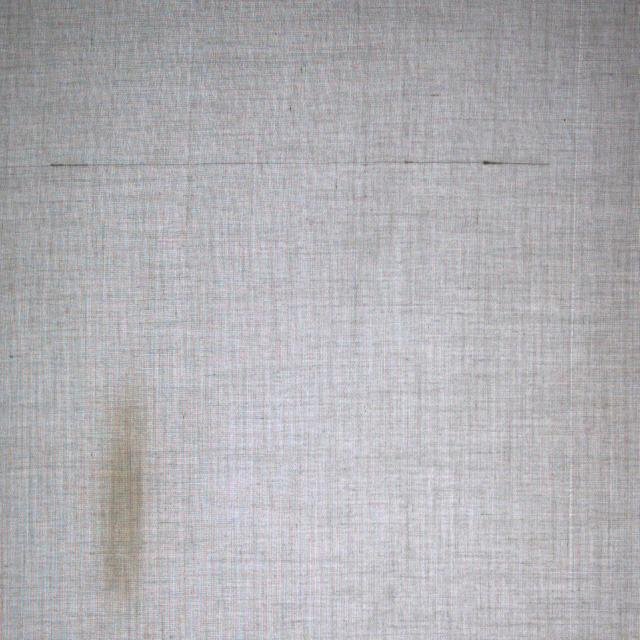dirty: (104, 396, 140, 596)
